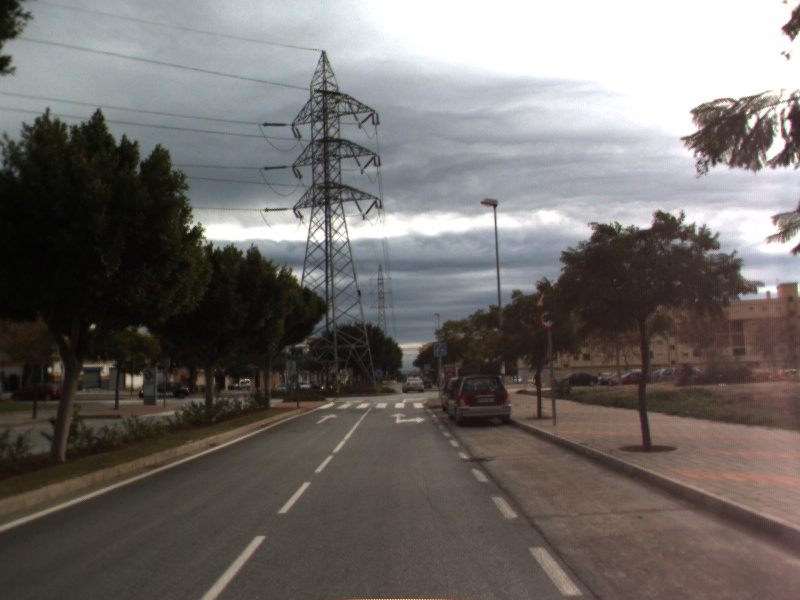STRAIGHT: (313, 411, 340, 426)
STRAIGHT_RIGHT: (388, 410, 427, 425)
